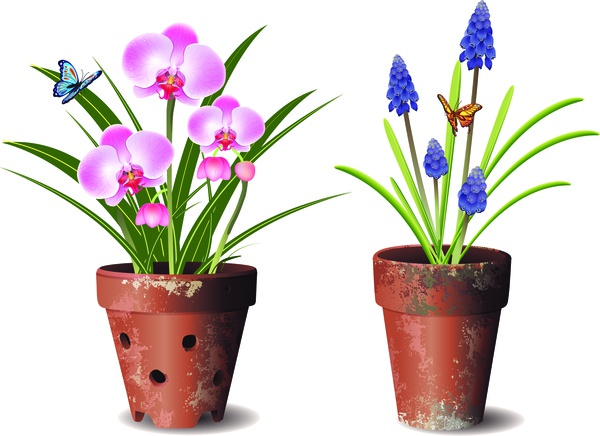flowerpot: (95, 261, 258, 426), (370, 245, 512, 429)
